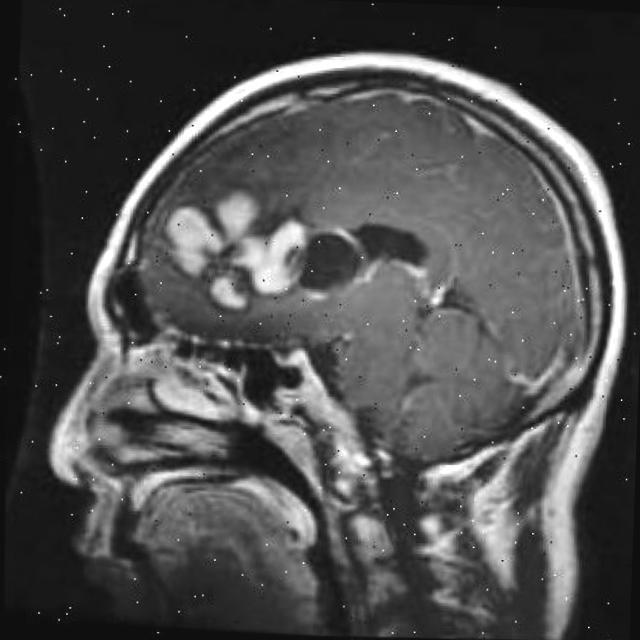EMCI: (234, 226, 320, 324), (136, 202, 213, 268)
